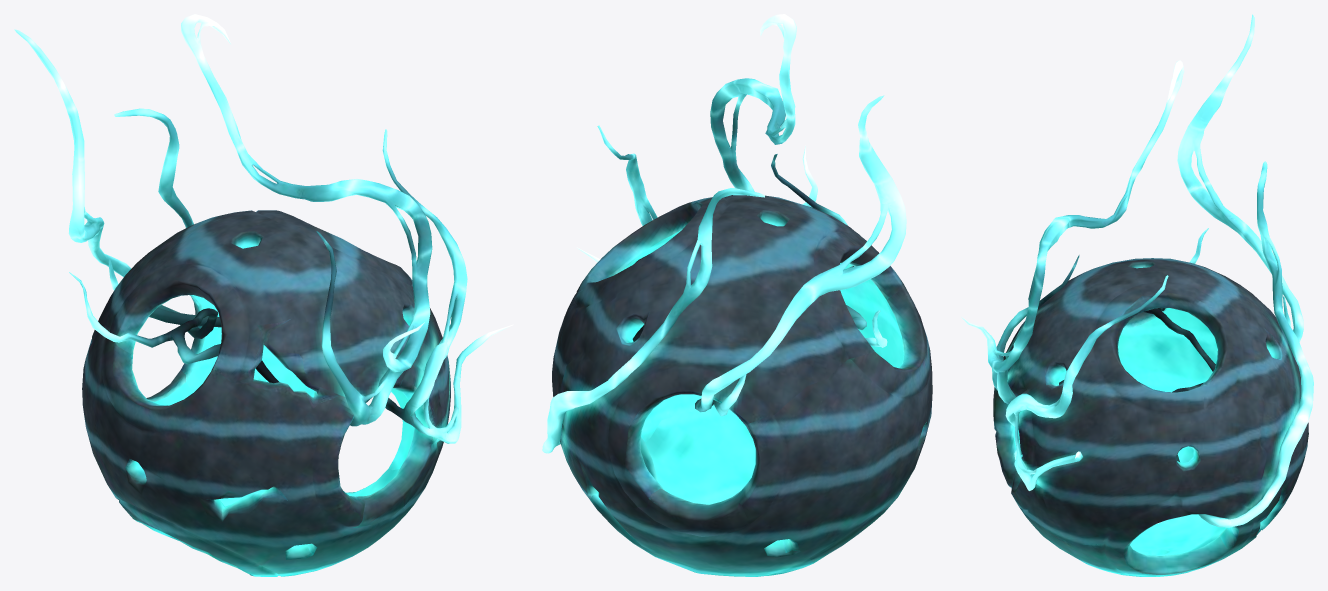
The model's file is sky_decor_pot_soma_v35.glb.
3 views of the same model, side by side, from view 1: azimuth 30°, elevation 25°; view 2: azimuth 150°, elevation 25°; view 3: azimuth 270°, elevation 25° (orthographic). The views are drawn at different scales.
Visible parts, largest first — view 1: caos_drs_chaospot_01b; view 2: caos_drs_chaospot_01b; view 3: caos_drs_chaospot_01b.
Boxes of the visible parts, x1,y1,x2,y2 form: caos_drs_chaospot_01b: (14,14,513,576); caos_drs_chaospot_01b: (542,14,932,576); caos_drs_chaospot_01b: (961,14,1313,576).
Bounding box in the file's own units: 2.53 × 3.33 × 2.24.
2 materials, 2 textured.
